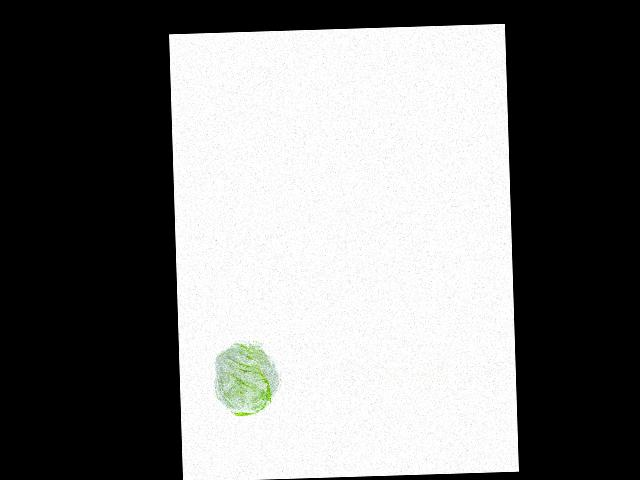lettuce: (216, 339, 281, 415)
